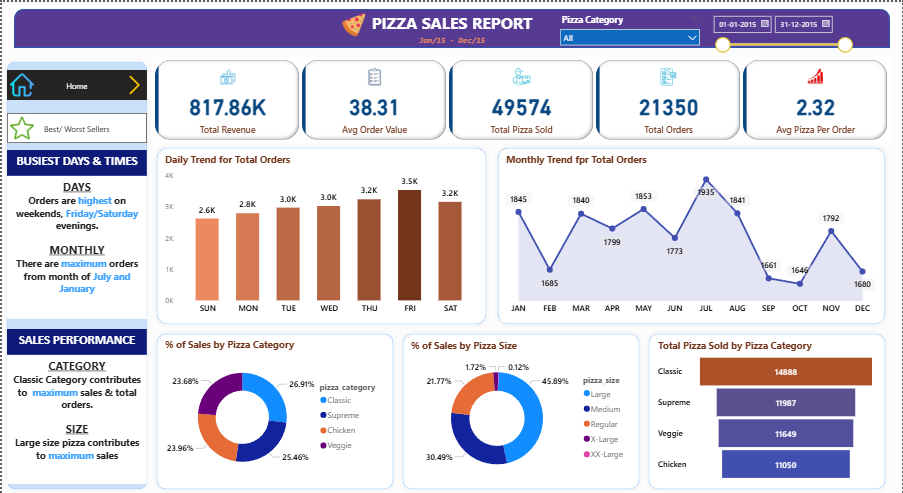

What the dashboard file says about the page in this screenshot:
{"tool":"powerbi","page":{"name":"Home","canvas":[1500,820],"ordinal":0},"visuals":[{"type":"cardVisual","fields":{"Data":["pizza_sales.Total Revenue","pizza_sales.Avg Order Value","pizza_sales.Total Pizza Sold","pizza_sales.Total Orders","pizza_sales.Avg Pizza Per Order"]},"box":[250,91.7,1230,143.3],"z":0},{"type":"shape","box":[20,11.7,1460,65],"z":1000},{"type":"textbox","box":[603.3,11.7,293.3,48.3],"z":2000},{"type":"textbox","box":[681.7,50,136.7,26.7],"z":3000},{"type":"image","box":[548.3,13.3,75,50],"z":4000},{"type":"shape","box":[250,235,565,310],"z":5000},{"type":"columnChart","title":"Daily Trend for Total Orders","fields":{"Category":["pizza_sales.Order Day"],"Y":["pizza_sales.Total Orders"]},"box":[266.7,251.7,533.3,276.7],"z":6000},{"type":"shape","box":[818.3,235,661.7,310],"z":7000},{"type":"areaChart","title":"Monthly Trend fpr Total Orders","fields":{"Category":["pizza_sales.Order Month"],"Y":["pizza_sales.Total Orders"]},"box":[835,251.7,625,276.7],"z":8000},{"type":"shape","box":[250,545,410,275],"z":9000},{"type":"shape","box":[660,545,410,275],"z":10000},{"type":"shape","box":[1070,545,410,275],"z":11000},{"type":"shape","box":[0,91.7,250,728.3],"z":12000},{"type":"donutChart","title":"% of Sales by Pizza Category","fields":{"Category":["pizza_sales.pizza_category"],"Y":["pizza_sales.Total Revenue"]},"box":[266.7,560,376.7,243.3],"z":13000},{"type":"donutChart","title":"% of Sales by Pizza Size","fields":{"Y":["pizza_sales.Total Revenue"],"Category":["pizza_sales.pizza_size"]},"box":[676.7,561.7,376.7,243.3],"z":14000},{"type":"funnel","title":"Total Pizza Sold by Pizza Category","fields":{"Category":["pizza_sales.pizza_category"],"Y":["pizza_sales.Total Pizza Sold"]},"box":[1088.3,561.7,371.7,241.7],"z":15000},{"type":"textbox","box":[8.3,246.7,233.3,43.3],"z":16000},{"type":"textbox","box":[8.3,290,233.3,238.3],"z":17000},{"type":"textbox","box":[8.3,545,233.3,43.3],"z":18000},{"type":"textbox","box":[8.3,588.3,233.3,215],"z":19000},{"type":"slicer","fields":{"Values":["pizza_sales.pizza_category"]},"box":[920,13.3,253.3,63.3],"z":20000},{"type":"slicer","fields":{"Values":["pizza_sales.order_date"]},"box":[1173.3,13.3,253.3,78.3],"z":21000},{"type":"pageNavigator","box":[8.3,113.3,233.3,50],"z":22000},{"type":"pageNavigator","box":[8.3,185,233.3,50],"z":23000},{"type":"image","box":[8.3,113.3,50,50],"z":23001},{"type":"image","box":[200,113.3,41.7,50],"z":23002},{"type":"image","box":[8.3,185,50,50],"z":23003}]}

Visuals, with their boxes in screenshot pixels (x1, y1, x2, y2), scaled from the page's 1500x820 canvas onto the 903x493 screenshot:
cardVisual - pizza_sales.Total Revenue x pizza_sales.Avg Order Value: bbox=[150, 55, 891, 141]
shape: bbox=[12, 7, 891, 46]
textbox: bbox=[363, 7, 540, 36]
textbox: bbox=[410, 30, 493, 46]
image: bbox=[330, 8, 375, 38]
shape: bbox=[150, 141, 491, 328]
"Daily Trend for Total Orders" columnChart: bbox=[161, 151, 482, 318]
shape: bbox=[493, 141, 891, 328]
"Monthly Trend fpr Total Orders" areaChart: bbox=[503, 151, 879, 318]
shape: bbox=[150, 328, 397, 492]
shape: bbox=[397, 328, 644, 492]
shape: bbox=[644, 328, 891, 492]
shape: bbox=[0, 55, 150, 492]
"% of Sales by Pizza Category" donutChart: bbox=[161, 337, 387, 483]
"% of Sales by Pizza Size" donutChart: bbox=[407, 338, 634, 484]
"Total Pizza Sold by Pizza Category" funnel: bbox=[655, 338, 879, 483]
textbox: bbox=[5, 148, 145, 174]
textbox: bbox=[5, 174, 145, 318]
textbox: bbox=[5, 328, 145, 354]
textbox: bbox=[5, 354, 145, 483]
slicer - pizza_sales.pizza_category: bbox=[554, 8, 706, 46]
slicer - pizza_sales.order_date: bbox=[706, 8, 859, 55]
pageNavigator: bbox=[5, 68, 145, 98]
pageNavigator: bbox=[5, 111, 145, 141]
image: bbox=[5, 68, 35, 98]
image: bbox=[120, 68, 146, 98]
image: bbox=[5, 111, 35, 141]
